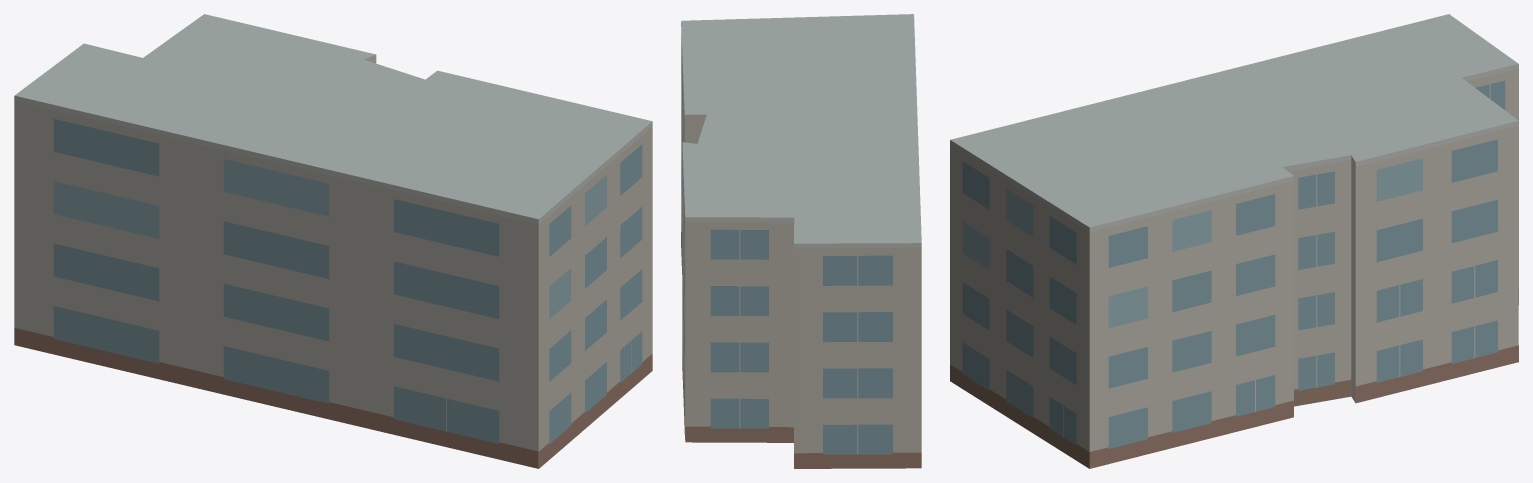
File: survey-upis-32681448.glb
3 renders of one model, left to right at view 1: azimuth 30°, elevation 25°; view 2: azimuth 150°, elevation 25°; view 3: azimuth 270°, elevation 25°, orthographic. The views are drawn at different scales.
Visible parts, largest first — view 1: survey-upis-32681448.tmp; view 2: survey-upis-32681448.tmp; view 3: survey-upis-32681448.tmp.
Part boxes in pixels (x1=…): survey-upis-32681448.tmp: x1=14, y1=14, x2=652, y2=468; survey-upis-32681448.tmp: x1=681, y1=14, x2=921, y2=468; survey-upis-32681448.tmp: x1=950, y1=14, x2=1518, y2=468.
Size of the model in its own units: 22.39 by 11.8 by 25.2.
